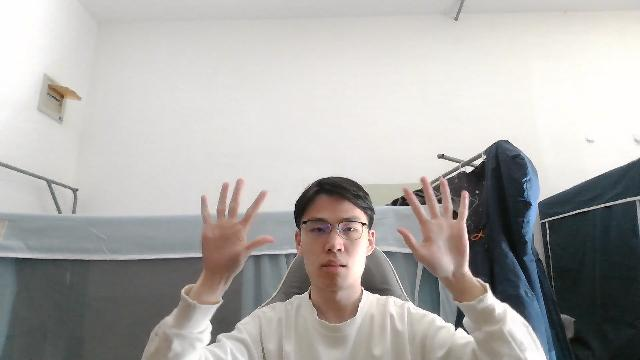five: (195, 175, 277, 288), (395, 175, 471, 281)
